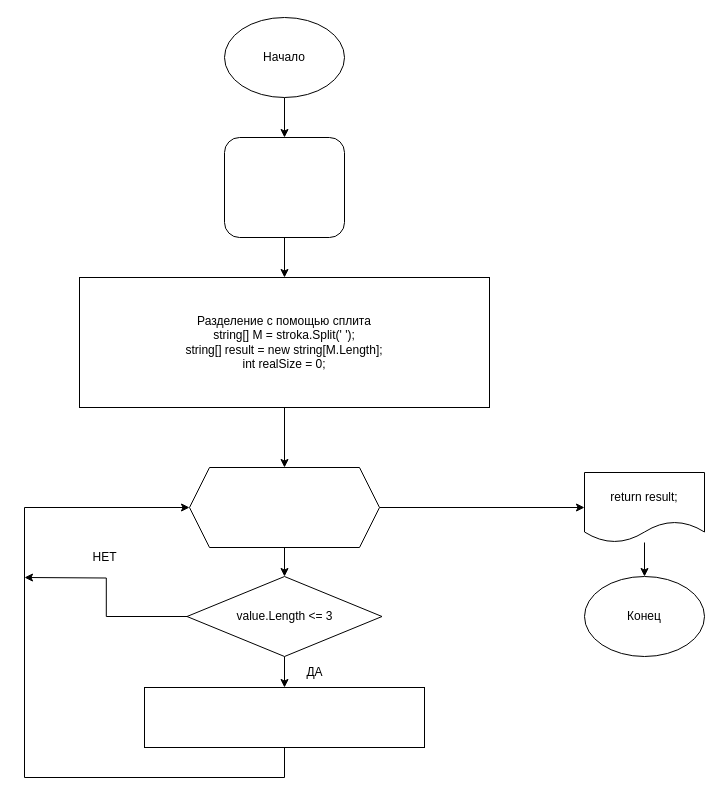
Some shapes in this 722 by 803 pixel diagram are drawn without their labels. Each missing label, with the centre of its shape:
"result[realSize] = value; realSize++;" belongs at [284,717].
"Ввод данных через пробел string stroka" belongs at [284,187].
"Пока в массиве есть переменные foreach (var value in M)" belongs at [284,507].
